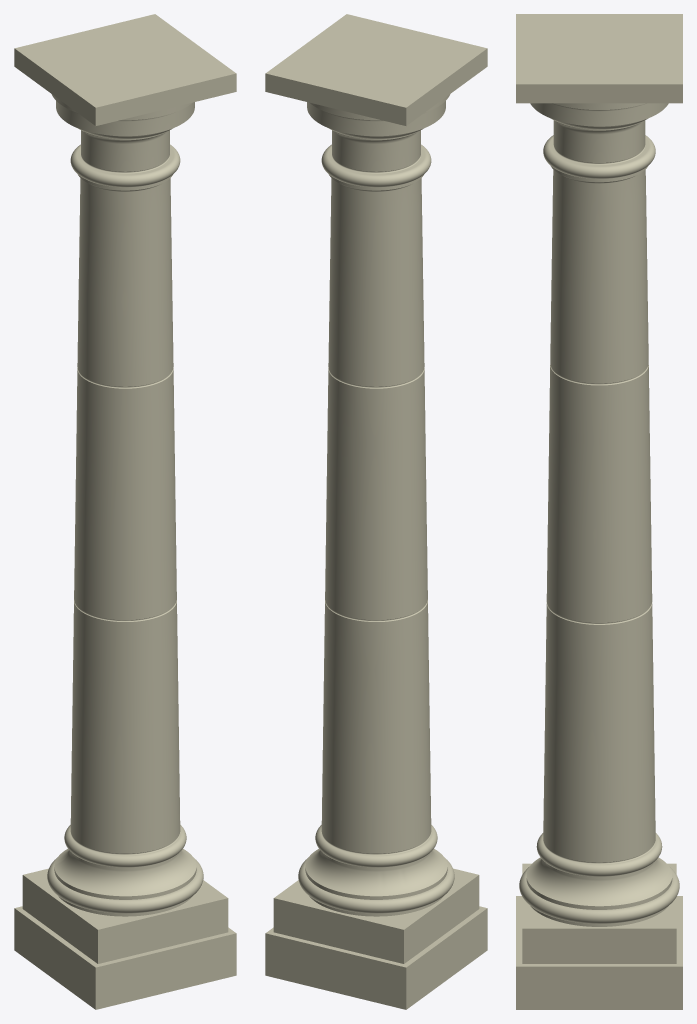
The model's file is column_02.glb.
3 renders of one model, left to right at view 1: azimuth 30°, elevation 25°; view 2: azimuth 150°, elevation 25°; view 3: azimuth 270°, elevation 25°, orthographic. The views are drawn at different scales.
Parts seen in each view (by area): view 1: Object_2; view 2: Object_2; view 3: Object_2.
Part boxes in pixels (bbox=[...]): Object_2: bbox=[14, 14, 236, 1009]; Object_2: bbox=[265, 14, 487, 1009]; Object_2: bbox=[516, 14, 682, 1009].
Bounding box in the file's own units: 40 × 245 × 40.
